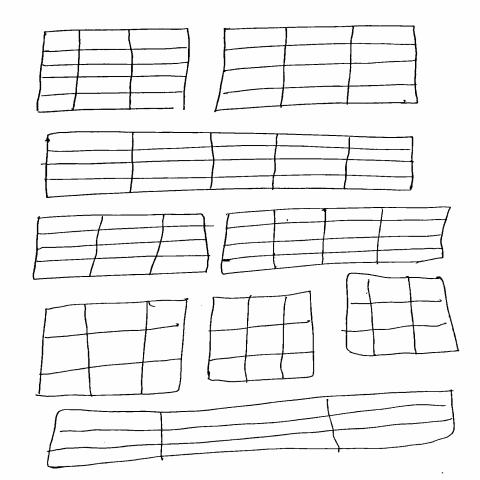Table: (47, 390, 457, 469), (42, 132, 417, 199), (215, 26, 418, 113), (222, 208, 452, 276), (36, 298, 189, 398), (38, 29, 191, 113), (33, 214, 215, 281), (208, 292, 315, 384), (342, 274, 459, 357)
